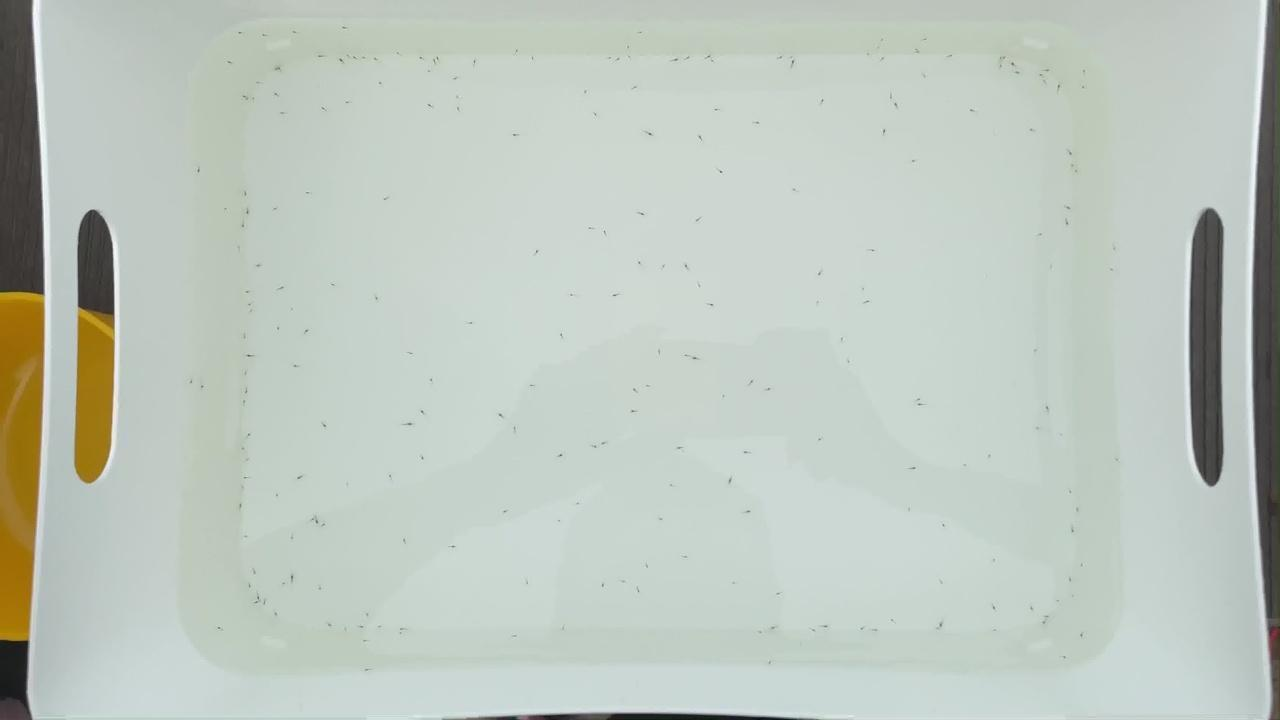shrimp: (1064, 201, 1077, 209), (1015, 69, 1028, 77), (1078, 68, 1091, 76), (870, 41, 883, 49), (667, 58, 680, 66), (580, 85, 593, 93), (711, 102, 724, 110), (507, 129, 520, 137), (509, 46, 522, 54), (428, 58, 441, 66), (422, 102, 435, 110), (369, 57, 382, 65), (238, 91, 251, 99), (276, 113, 289, 121), (270, 202, 283, 210), (327, 279, 340, 287), (239, 368, 252, 376), (242, 473, 255, 481), (242, 578, 255, 586), (249, 600, 262, 608), (360, 661, 373, 669), (385, 467, 398, 475), (414, 406, 427, 414), (465, 318, 478, 326), (692, 279, 705, 287), (654, 346, 667, 354), (1032, 423, 1045, 431), (1063, 522, 1076, 530), (984, 450, 997, 458), (1060, 655, 1073, 663), (645, 129, 657, 137), (696, 135, 708, 143), (335, 58, 347, 66), (374, 295, 386, 303), (274, 489, 286, 497), (1066, 484, 1078, 492), (850, 622, 862, 630), (773, 589, 785, 597), (1053, 83, 1066, 90), (1039, 76, 1052, 83), (1034, 71, 1047, 78), (1065, 149, 1078, 156), (1071, 165, 1084, 172), (1062, 214, 1075, 221), (1033, 230, 1046, 237), (1027, 124, 1040, 131), (1006, 62, 1019, 69), (996, 53, 1009, 60), (997, 60, 1010, 67), (1082, 84, 1095, 91), (970, 104, 983, 111), (944, 49, 957, 56), (919, 36, 932, 43), (879, 56, 892, 63), (864, 52, 877, 59), (886, 93, 899, 100), (891, 107, 904, 114), (877, 127, 890, 134), (815, 97, 828, 104), (791, 59, 804, 66), (773, 55, 786, 62), (702, 50, 715, 57), (682, 56, 695, 63), (614, 56, 627, 63), (599, 62, 612, 69), (630, 82, 643, 89), (588, 109, 601, 116), (716, 168, 729, 175), (751, 118, 764, 125), (527, 55, 540, 62), (451, 79, 464, 86), (432, 56, 445, 63), (413, 52, 426, 59), (454, 93, 467, 100), (452, 103, 465, 110), (375, 81, 388, 88), (345, 52, 358, 59), (339, 25, 352, 32), (314, 52, 327, 59), (260, 33, 273, 40), (236, 29, 249, 36), (224, 59, 237, 66), (265, 90, 278, 97), (320, 105, 333, 112), (345, 97, 358, 104), (189, 164, 202, 171), (245, 209, 258, 216), (238, 220, 251, 227), (230, 238, 243, 245), (301, 188, 314, 195), (253, 262, 266, 269), (242, 287, 255, 294), (240, 332, 253, 339), (241, 349, 254, 356), (194, 381, 207, 388), (185, 381, 198, 388), (237, 397, 250, 404), (244, 385, 257, 392), (294, 361, 307, 368), (301, 328, 314, 335), (270, 324, 283, 331), (242, 433, 255, 440), (238, 442, 251, 449), (244, 453, 257, 460), (238, 482, 251, 489), (238, 502, 251, 509), (309, 517, 322, 524), (286, 535, 299, 542), (286, 571, 299, 578), (248, 566, 261, 573), (279, 581, 292, 588), (259, 598, 272, 605), (271, 611, 284, 618), (327, 622, 340, 629), (314, 578, 327, 585), (356, 622, 369, 629), (362, 609, 375, 616), (399, 626, 412, 633), (401, 538, 414, 545), (416, 449, 429, 456), (398, 420, 411, 427), (425, 377, 438, 384), (493, 409, 506, 416), (507, 424, 520, 431), (499, 510, 512, 517), (447, 542, 460, 549), (524, 583, 537, 590), (599, 580, 612, 587), (630, 582, 643, 589), (676, 554, 689, 561), (651, 513, 664, 520), (555, 449, 568, 456), (521, 377, 534, 384), (589, 447, 602, 454), (597, 435, 610, 442), (627, 412, 640, 419), (628, 380, 641, 387), (644, 384, 657, 391), (556, 335, 569, 342), (531, 247, 544, 254), (582, 221, 595, 228), (600, 228, 613, 235), (610, 294, 623, 301), (636, 209, 649, 216), (658, 265, 671, 272), (814, 266, 827, 273), (870, 242, 883, 249), (856, 282, 869, 289), (835, 332, 848, 339), (841, 355, 854, 362), (741, 377, 754, 384), (687, 352, 700, 359), (725, 477, 738, 484), (740, 507, 753, 514), (814, 433, 827, 440), (915, 394, 928, 401), (918, 402, 931, 409), (905, 467, 918, 474), (1042, 408, 1055, 415), (1052, 597, 1065, 604), (1042, 609, 1055, 616), (1033, 621, 1046, 628), (1079, 626, 1092, 633), (988, 624, 1001, 631), (984, 600, 997, 607), (988, 558, 1001, 565), (936, 519, 949, 526), (902, 503, 915, 510), (935, 576, 948, 583), (936, 616, 949, 623), (932, 626, 945, 633), (886, 615, 899, 622), (869, 623, 882, 630), (823, 623, 836, 630), (809, 627, 822, 634), (755, 626, 768, 633), (768, 624, 781, 631), (1045, 62, 1057, 69), (912, 48, 924, 55), (917, 74, 929, 81), (469, 57, 481, 64), (358, 53, 370, 60), (291, 27, 303, 34), (275, 68, 287, 75), (241, 191, 253, 198), (380, 194, 392, 201), (275, 284, 287, 291), (247, 304, 259, 311), (319, 424, 331, 431), (297, 471, 309, 478), (319, 520, 331, 527), (252, 591, 264, 598), (213, 625, 225, 632), (640, 557, 652, 564), (563, 293, 575, 300), (634, 258, 646, 265), (695, 218, 707, 225), (679, 262, 691, 269), (707, 295, 719, 302), (790, 185, 802, 192), (862, 304, 874, 311), (806, 300, 818, 307), (757, 384, 769, 391), (718, 392, 730, 399), (673, 446, 685, 453), (662, 486, 674, 493), (740, 449, 752, 456), (1111, 455, 1123, 462), (1072, 504, 1084, 511), (1067, 576, 1079, 583), (1028, 600, 1040, 607), (762, 652, 774, 659)
